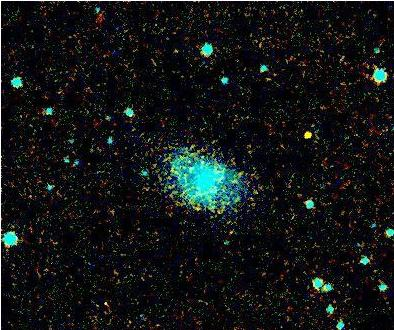star: (294, 119, 324, 149)
